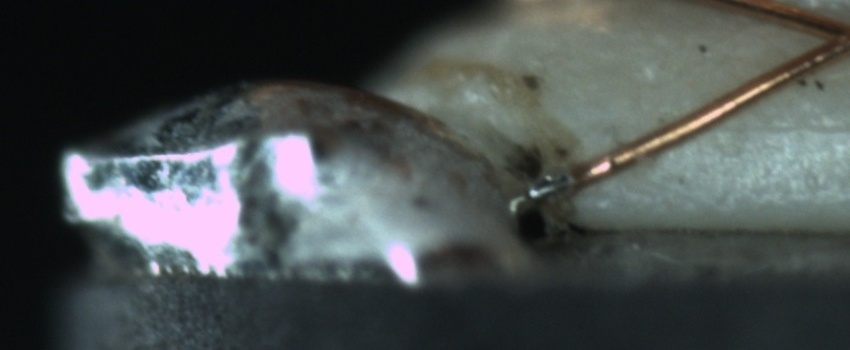CL: (801, 6, 850, 67)
DL: (694, 97, 848, 158)
TS: (519, 171, 573, 207)
